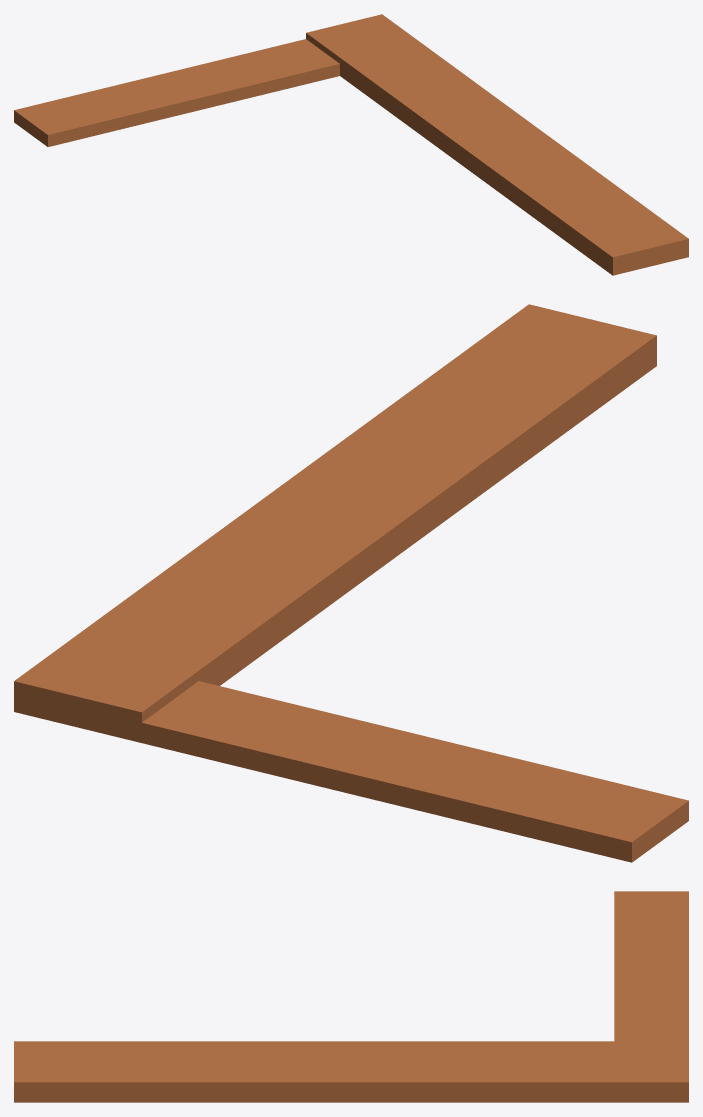
File: angle01.gltf
The picture shows the model from 3 angles, top to bottom: view 1: azimuth 30°, elevation 25°; view 2: azimuth 150°, elevation 25°; view 3: azimuth 270°, elevation 25°; orthographic projection. The views are drawn at different scales.
Visible parts, largest first — view 1: Cube.001; view 2: Cube.001; view 3: Cube.001.
Part boxes in pixels (x1=…): Cube.001: x1=14, y1=14, x2=688, y2=275; Cube.001: x1=14, y1=304, x2=688, y2=862; Cube.001: x1=14, y1=891, x2=688, y2=1102.
Size of the model in its own units: 0.0948 by 0.00451 by 0.1368.
1 material, 1 textured.
